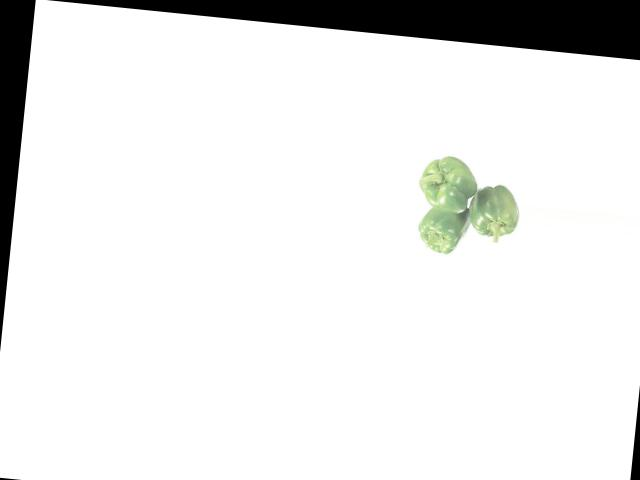bell_pepper: (411, 148, 480, 216)
